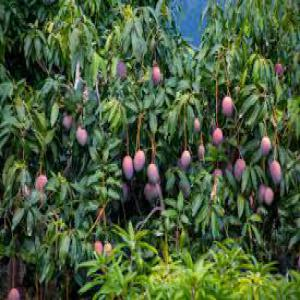Tree: (2, 2, 295, 292)
